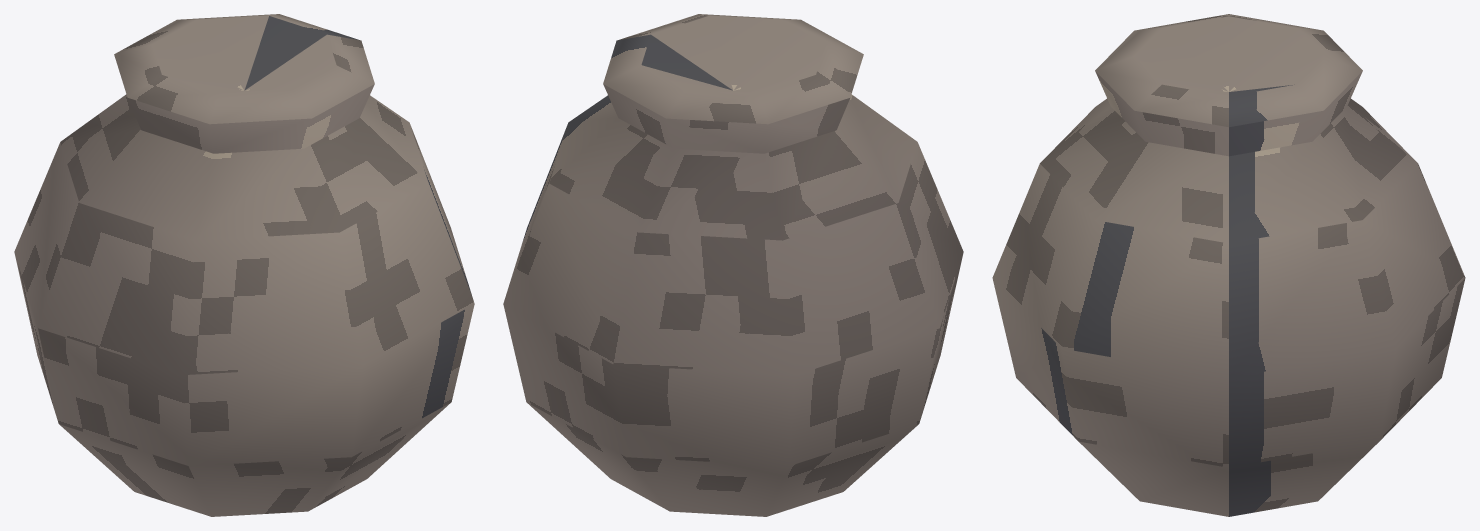
File: dprop.breakable.glb
The picture shows the model from 3 angles, left to right: view 1: azimuth 30°, elevation 25°; view 2: azimuth 150°, elevation 25°; view 3: azimuth 270°, elevation 25°; orthographic projection.
Parts seen in each view (by area): view 1: kit_pot; view 2: kit_pot; view 3: kit_pot.
Boxes of the visible parts, x1,y1,x2,y2 form: kit_pot: (14, 14, 474, 516); kit_pot: (503, 14, 963, 516); kit_pot: (992, 14, 1465, 516).
Bounding box in the file's own units: 0.6 × 0.57 × 0.6.
1 material, 1 textured.
